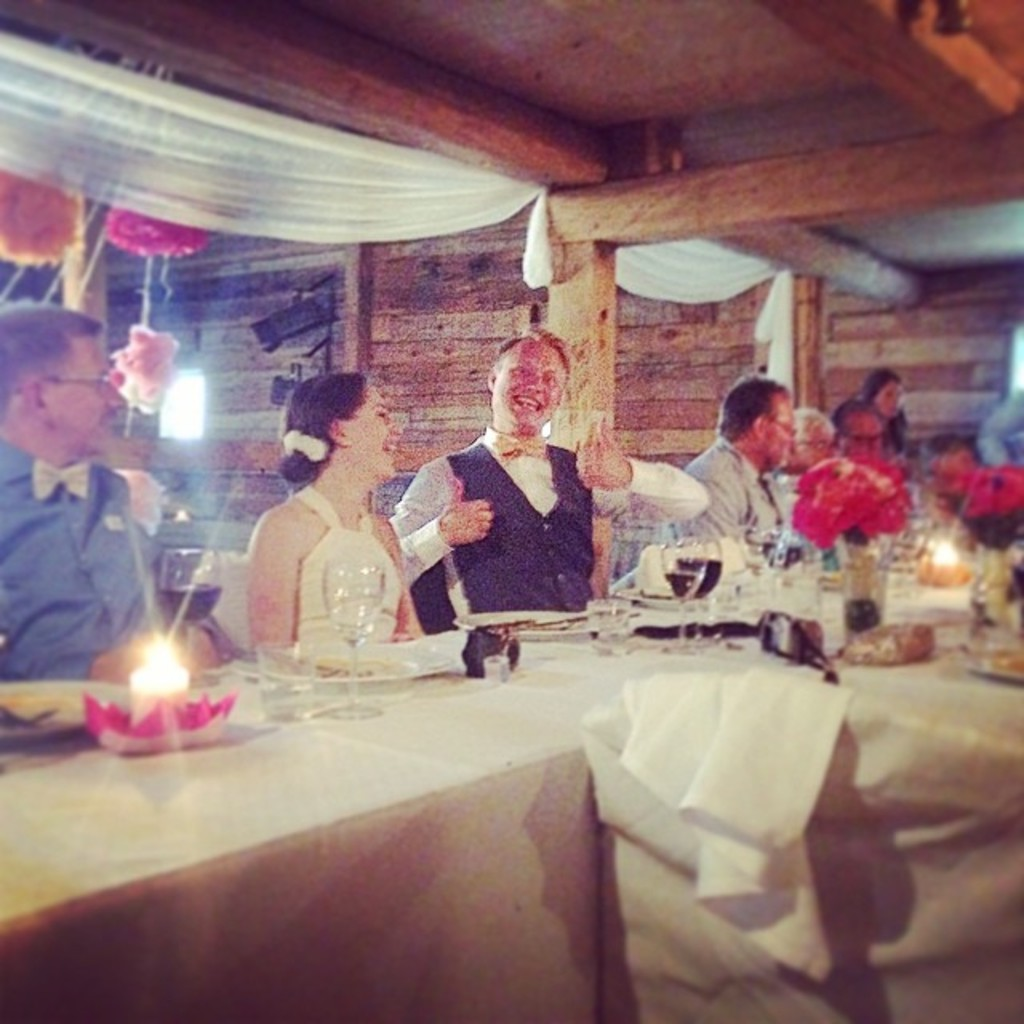Person: (0, 299, 1024, 681)
